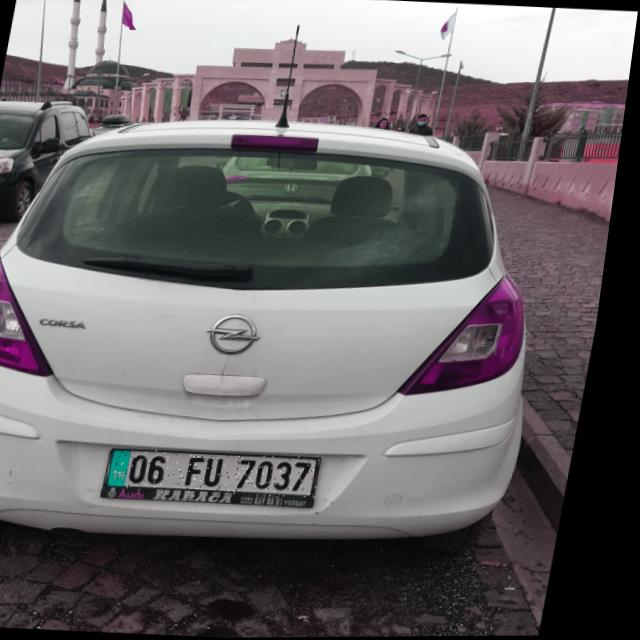license_plate: (117, 448, 336, 502)
